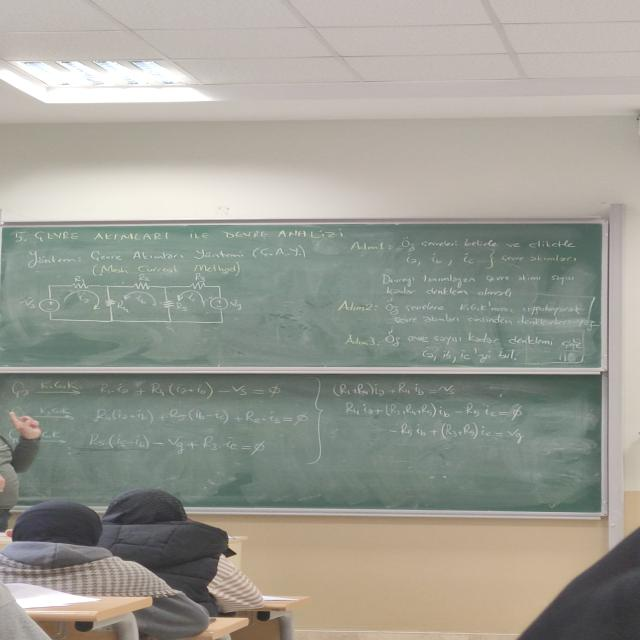image: (19, 272, 250, 328)
math: (86, 431, 271, 454), (93, 380, 284, 401), (92, 406, 312, 424), (389, 420, 533, 447), (339, 400, 531, 420), (329, 378, 466, 398), (400, 251, 482, 266)
text: (24, 244, 312, 276), (382, 329, 587, 364), (381, 298, 598, 328), (378, 271, 579, 298), (12, 229, 346, 239), (393, 236, 580, 250), (496, 251, 579, 266), (351, 239, 387, 252)
